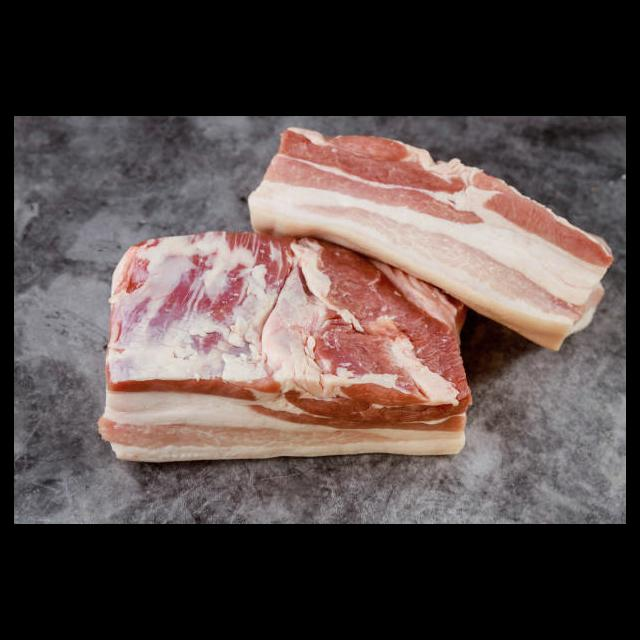pork: (98, 236, 468, 463), (256, 118, 620, 346)
